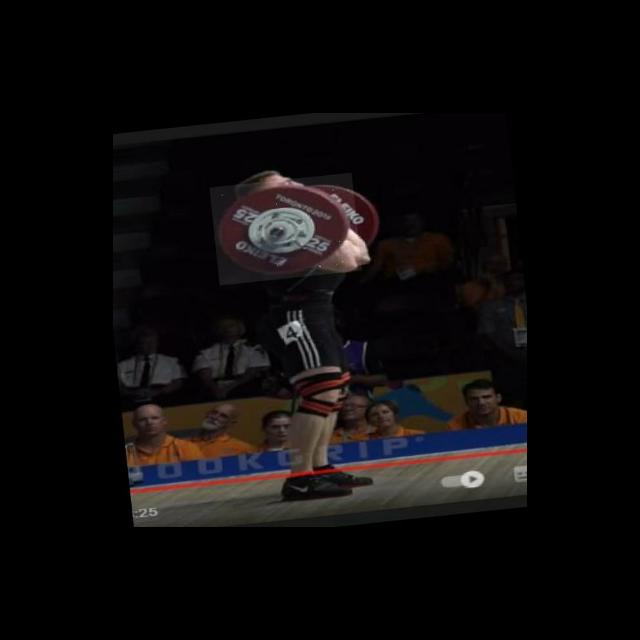barbell: (210, 173, 362, 285)
